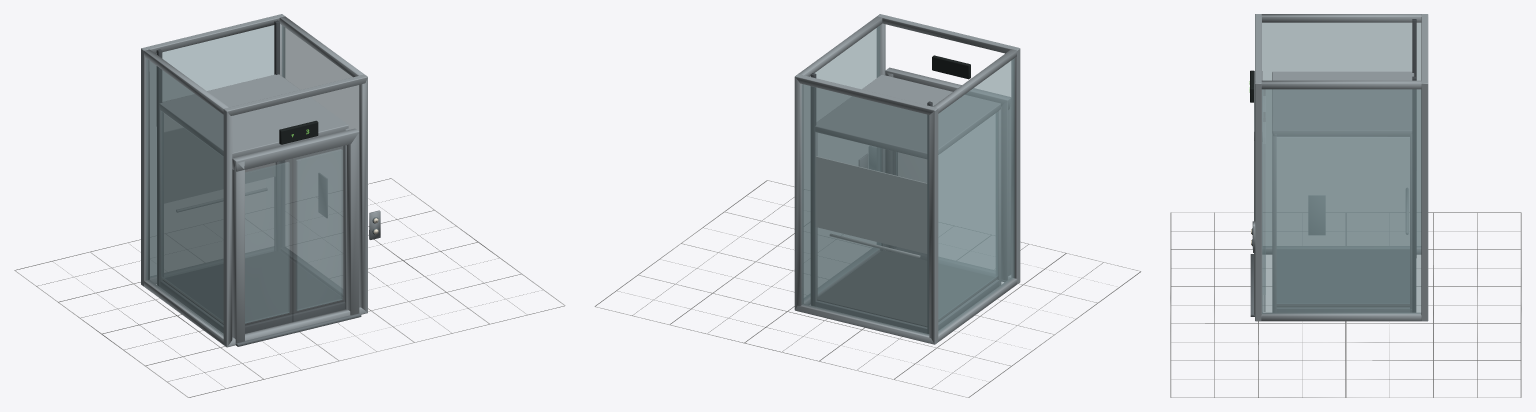
Rendered from thang_may.glb.
3 renders of one model, left to right at view 1: azimuth 30°, elevation 25°; view 2: azimuth 150°, elevation 25°; view 3: azimuth 270°, elevation 25°, orthographic.
Parts seen in each view (by area): view 1: w_kinh_long, w_cabin, w_canh_cua, w_khung_long, w_kinh_cabin, w_khung_cua, w_bang_goi, w_ray, w_den_tang; view 2: w_kinh_long, w_cabin, w_khung_long, w_kinh_cabin, w_bang_goi, w_khung_cua, w_ray, w_canh_cua, w_den_tang; view 3: w_kinh_long, w_kinh_cabin, w_cabin, w_khung_long, w_bang_goi, w_ray, w_khung_cua, w_canh_cua.
Boxes of the visible parts, <box> form: w_kinh_long: <box>146,25,359,336</box>; w_cabin: <box>159,74,348,333</box>; w_canh_cua: <box>245,145,345,333</box>; w_khung_long: <box>141,14,367,347</box>; w_kinh_cabin: <box>161,112,342,321</box>; w_khung_cua: <box>232,128,361,346</box>; w_bang_goi: <box>14,178,565,397</box>; w_ray: <box>156,20,279,285</box>; w_den_tang: <box>279,120,318,144</box>; w_kinh_long: <box>801,25,1014,335</box>; w_cabin: <box>815,74,1000,333</box>; w_khung_long: <box>794,14,1020,344</box>; w_kinh_cabin: <box>818,112,997,318</box>; w_bang_goi: <box>594,146,1140,397</box>; w_khung_cua: <box>885,67,1010,281</box>; w_ray: <box>810,73,932,333</box>; w_canh_cua: <box>893,151,926,259</box>; w_den_tang: <box>932,55,970,79</box>; w_kinh_long: <box>1262,22,1421,313</box>; w_kinh_cabin: <box>1277,137,1409,303</box>; w_cabin: <box>1272,71,1414,312</box>; w_khung_long: <box>1255,14,1428,321</box>; w_bang_goi: <box>1170,212,1521,397</box>; w_ray: <box>1412,19,1416,312</box>; w_khung_cua: <box>1250,71,1262,316</box>; w_canh_cua: <box>1263,89,1265,311</box>.
Size of the model in its own units: 5.01 by 3 by 4.01.
